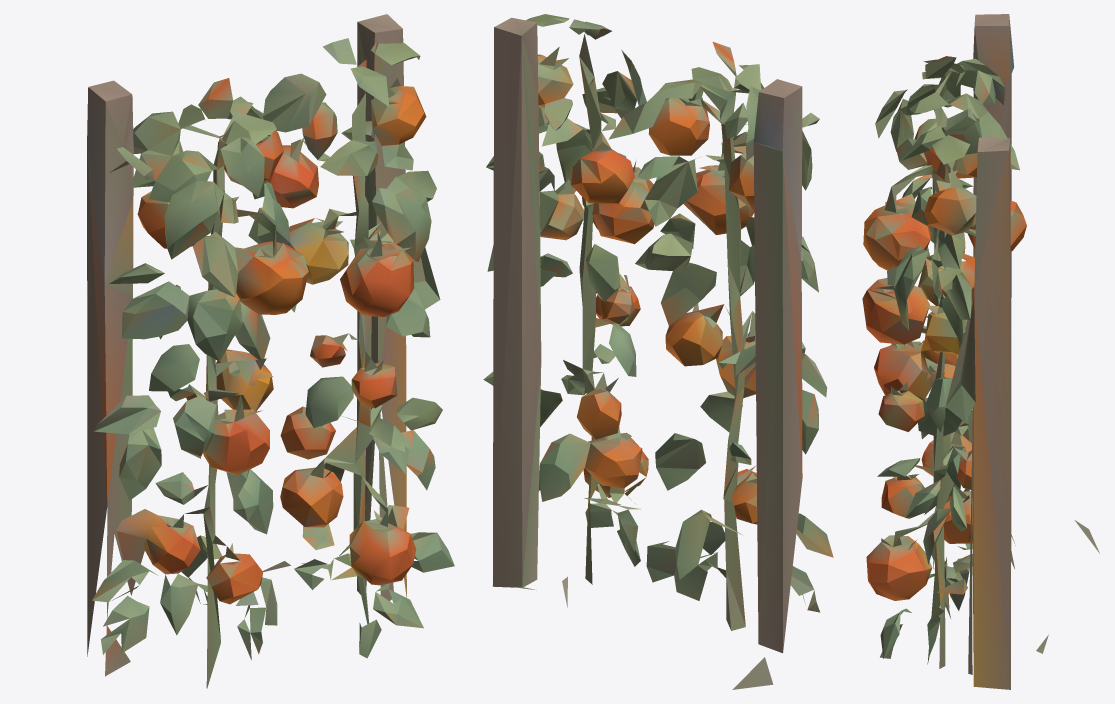
File: tomatoes.glb
The picture shows the model from 3 angles, left to right: view 1: azimuth 30°, elevation 25°; view 2: azimuth 150°, elevation 25°; view 3: azimuth 270°, elevation 25°; orthographic projection. The views are drawn at different scales.
Parts seen in each view (by area): view 1: geometry_0; view 2: geometry_0; view 3: geometry_0.
Boxes of the visible parts, x1=… form: geometry_0: x1=87, y1=14, x2=454, y2=688; geometry_0: x1=483, y1=14, x2=833, y2=689; geometry_0: x1=862, y1=14, x2=1099, y2=689.
Size of the model in its own units: 0.7604 by 1.2 by 0.4601.
